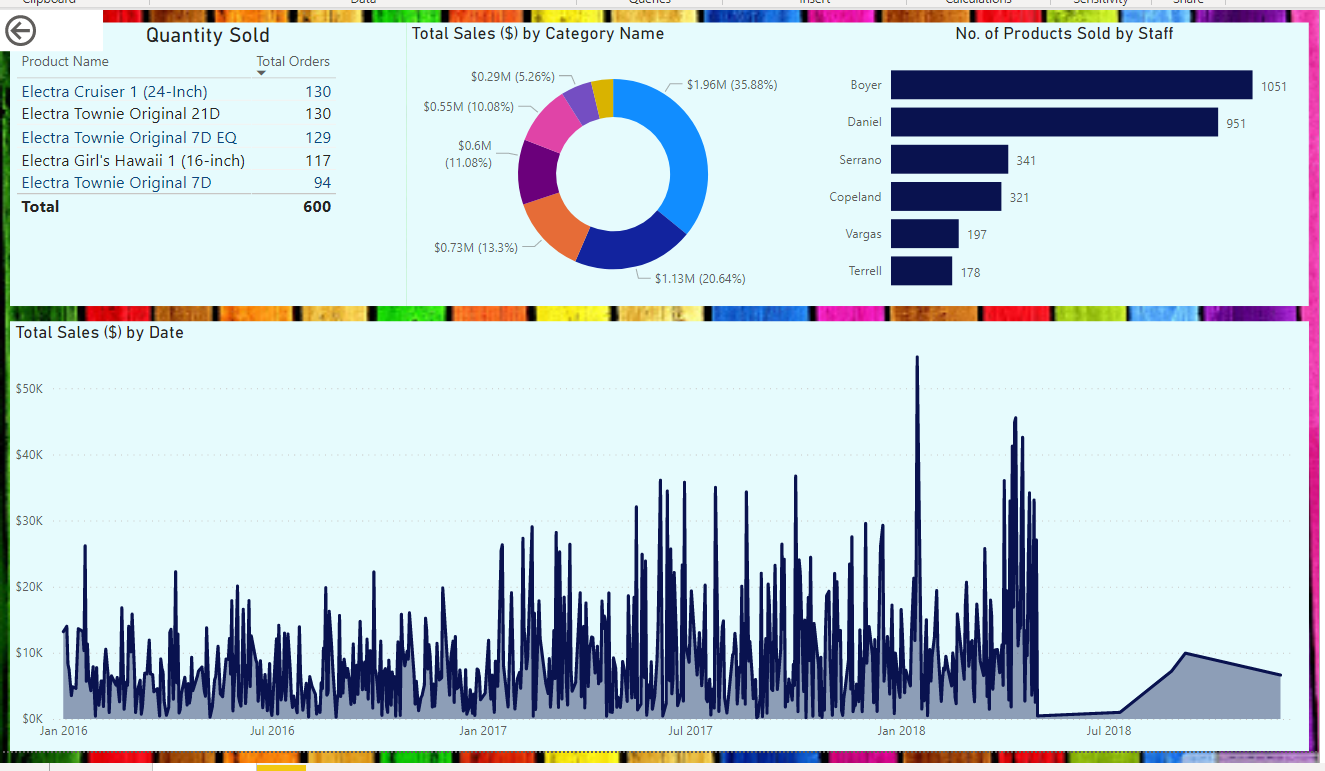

The page's visual inventory and layout, read from the dashboard file:
{"tool":"powerbi","page":{"name":"Visual 2","canvas":[1280,720],"ordinal":2},"visuals":[{"type":"tableEx","title":"Quantity Sold","fields":{"Values":["products.Product Name","Order Items.Product Count"]},"box":[9.7,12.1,384.6,275.4],"z":0},{"type":"barChart","title":"No. of Products Sold by Staff","fields":{"Category":["staffs.Last Name"],"Y":["Order Items.Product Count"]},"box":[795.9,12.1,474.4,275.4],"z":1000},{"type":"donutChart","fields":{"Category":["Categories.Category NAme"],"Y":["Order Items.Total Sales ($)"]},"box":[394.2,12.6,402,275],"z":2000},{"type":"actionButton","box":[0,0,100,40],"z":3000},{"type":"areaChart","fields":{"Category":["dDateOrders.Date"],"Y":["Order Items.Total Sales ($)"]},"box":[9.7,302.1,1260.6,417.4],"z":4000}]}

Visuals, with their boxes on the page's 1280x720 design canvas (x1, y1, x2, y2). These are canvas units, not pixel positions in the 1325x771 screenshot, which may show the page scaled, cropped or inside an application window:
"Quantity Sold" tableEx: box=[10, 12, 394, 288]
"No. of Products Sold by Staff" barChart: box=[796, 12, 1270, 288]
donutChart - Categories.Category NAme x Order Items.Total Sales ($): box=[394, 13, 796, 288]
actionButton: box=[0, 0, 100, 40]
areaChart - dDateOrders.Date x Order Items.Total Sales ($): box=[10, 302, 1270, 720]
